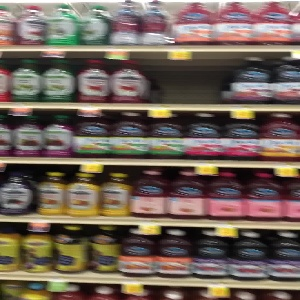void: (162, 50, 223, 104)
